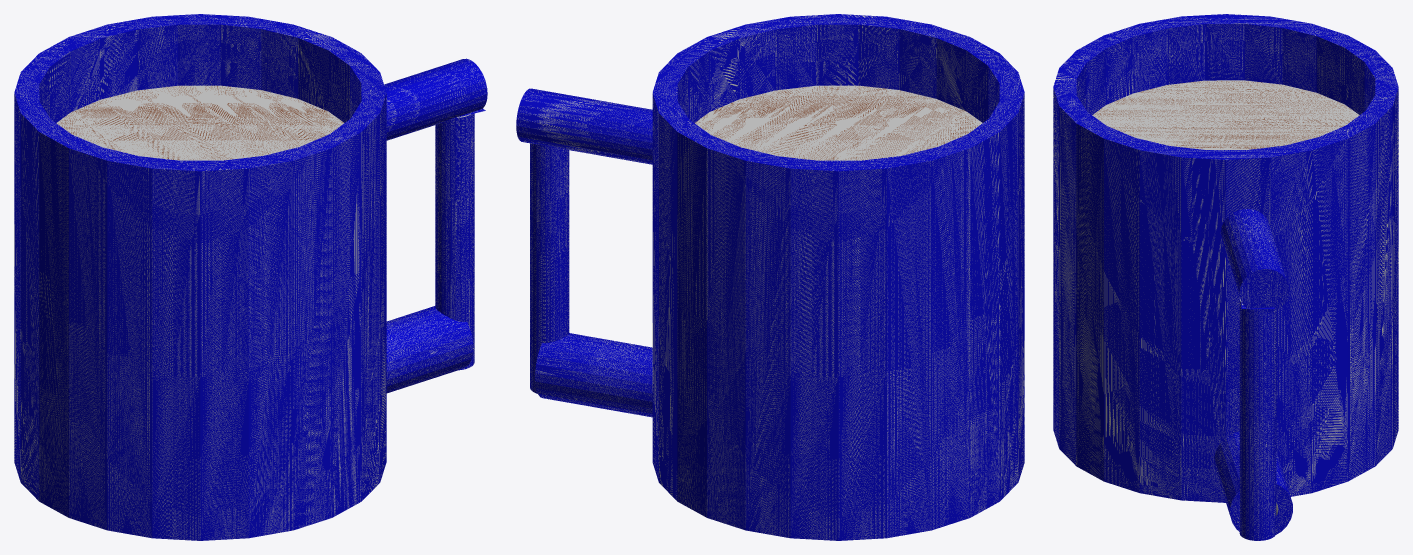
3 views of the same model, side by side, from view 1: azimuth 30°, elevation 25°; view 2: azimuth 150°, elevation 25°; view 3: azimuth 270°, elevation 25° (orthographic). The views are drawn at different scales.
Visible parts, largest first — view 1: mesh1_mesh1-geometry, mesh4_mesh4-geometry, mesh2_mesh2-geometry; view 2: mesh1_mesh1-geometry, mesh4_mesh4-geometry, mesh2_mesh2-geometry; view 3: mesh1_mesh1-geometry, mesh4_mesh4-geometry, mesh2_mesh2-geometry.
Boxes of the visible parts, x1,y1,x2,y2 form: mesh1_mesh1-geometry: (14, 14, 473, 540); mesh4_mesh4-geometry: (435, 113, 474, 370); mesh2_mesh2-geometry: (384, 58, 487, 140); mesh1_mesh1-geometry: (535, 14, 1024, 540); mesh4_mesh4-geometry: (530, 143, 569, 393); mesh2_mesh2-geometry: (516, 88, 652, 164); mesh1_mesh1-geometry: (1053, 14, 1398, 534); mesh4_mesh4-geometry: (1239, 298, 1276, 540); mesh2_mesh2-geometry: (1220, 209, 1289, 313).
Size of the model in its own units: 0.6898 by 0.5348 by 0.4881.
